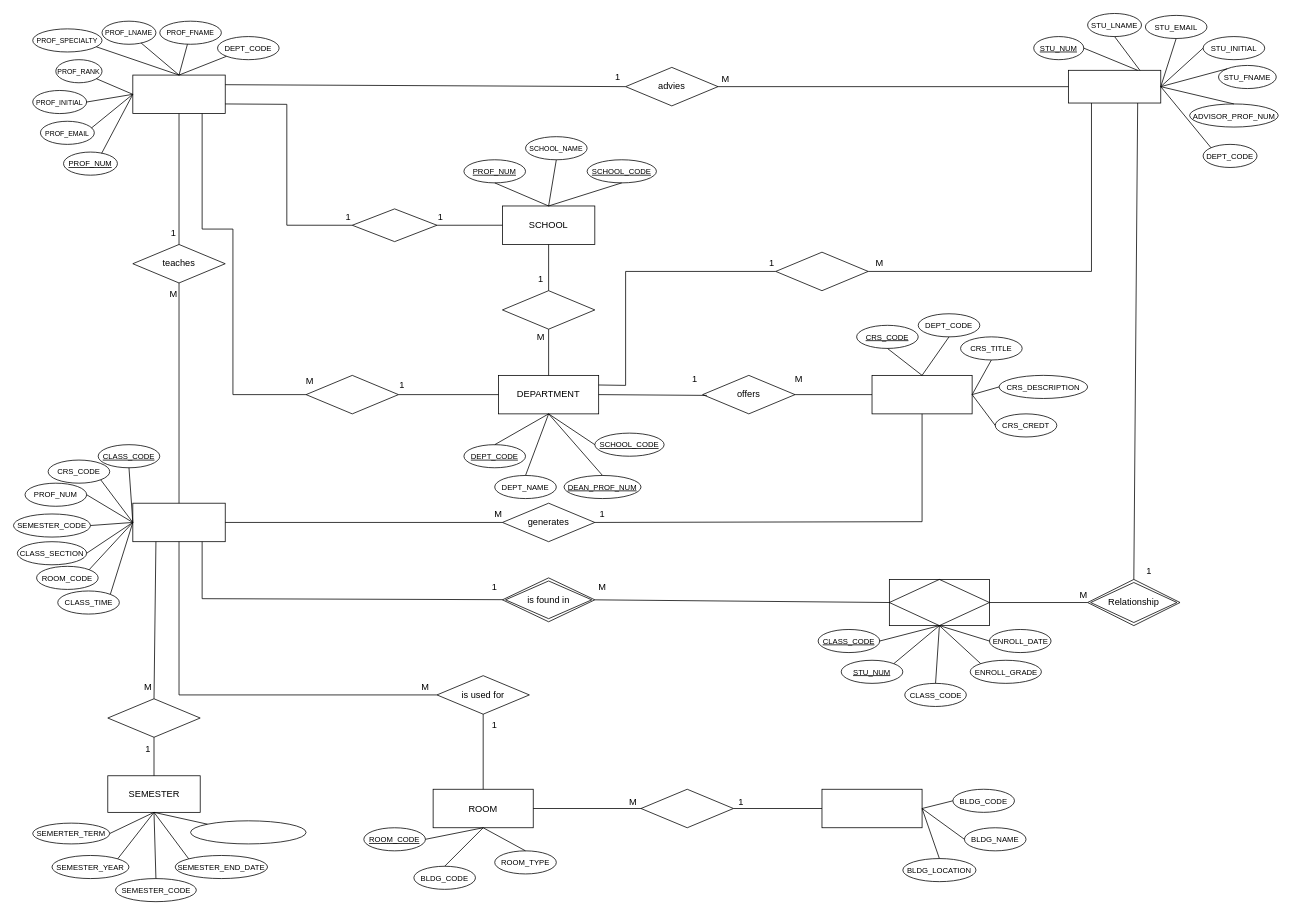
Image size: 1292x916. Some labels were removed from this diagram. The box of each missing label's shape, as (x1, y1, x2, y2) in pixels:
BUILDING: (821, 788, 922, 828)
CLASS: (132, 502, 225, 542)
contains: (640, 788, 733, 828)
COURSE: (871, 375, 972, 414)
employs: (305, 375, 398, 414)
ENROLL: (889, 579, 989, 626)
has: (775, 251, 868, 291)
include: (107, 698, 200, 737)
is dean of: (352, 208, 437, 242)
operates: (502, 290, 595, 329)
PROFESSOR: (132, 74, 225, 114)
SEMESTER_START_DATE: (190, 820, 306, 844)
STUDENT: (1068, 70, 1161, 103)
